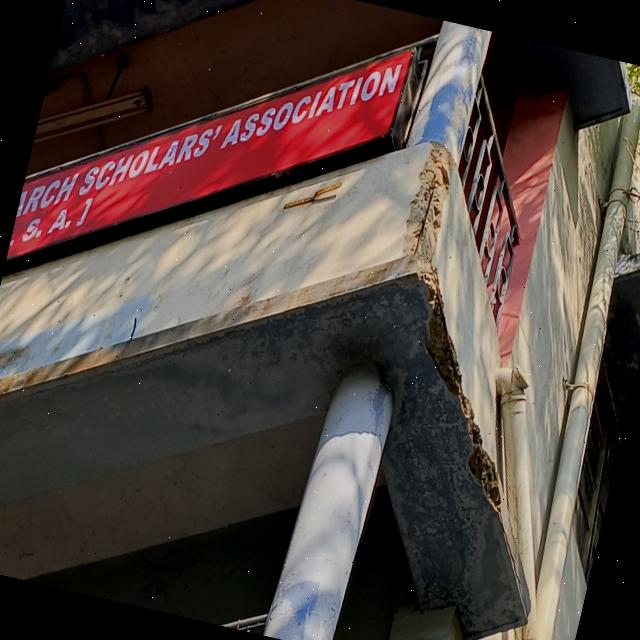Corrosion: (282, 178, 343, 212)
Paint Peeling: (0, 276, 517, 640), (407, 20, 491, 161)
Spalling: (402, 143, 500, 512)
